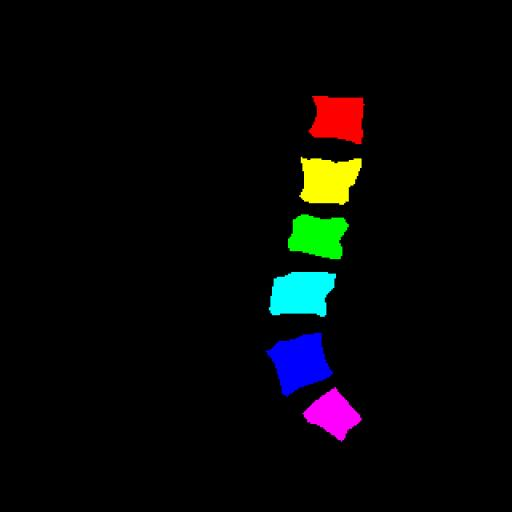L1: (309, 96, 364, 144)
L2: (300, 157, 362, 205)
L3: (288, 214, 349, 259)
L4: (269, 272, 336, 317)
L5: (267, 333, 332, 396)
S1: (303, 388, 361, 440)
